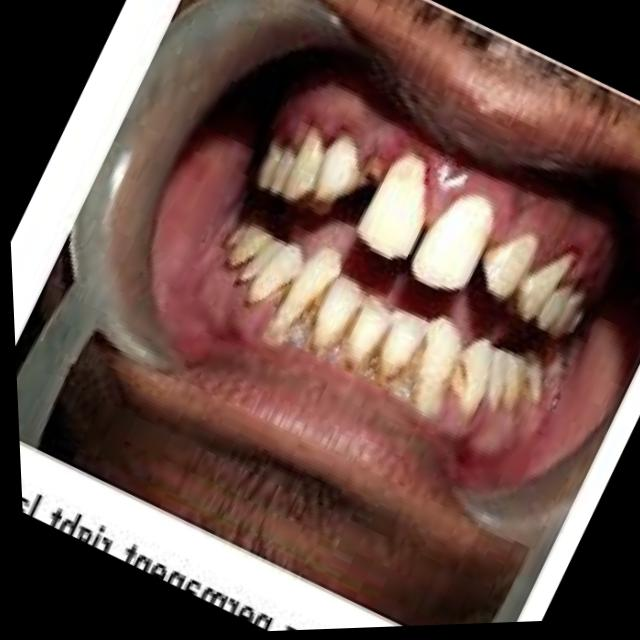hypodontia: (259, 122, 429, 257)
